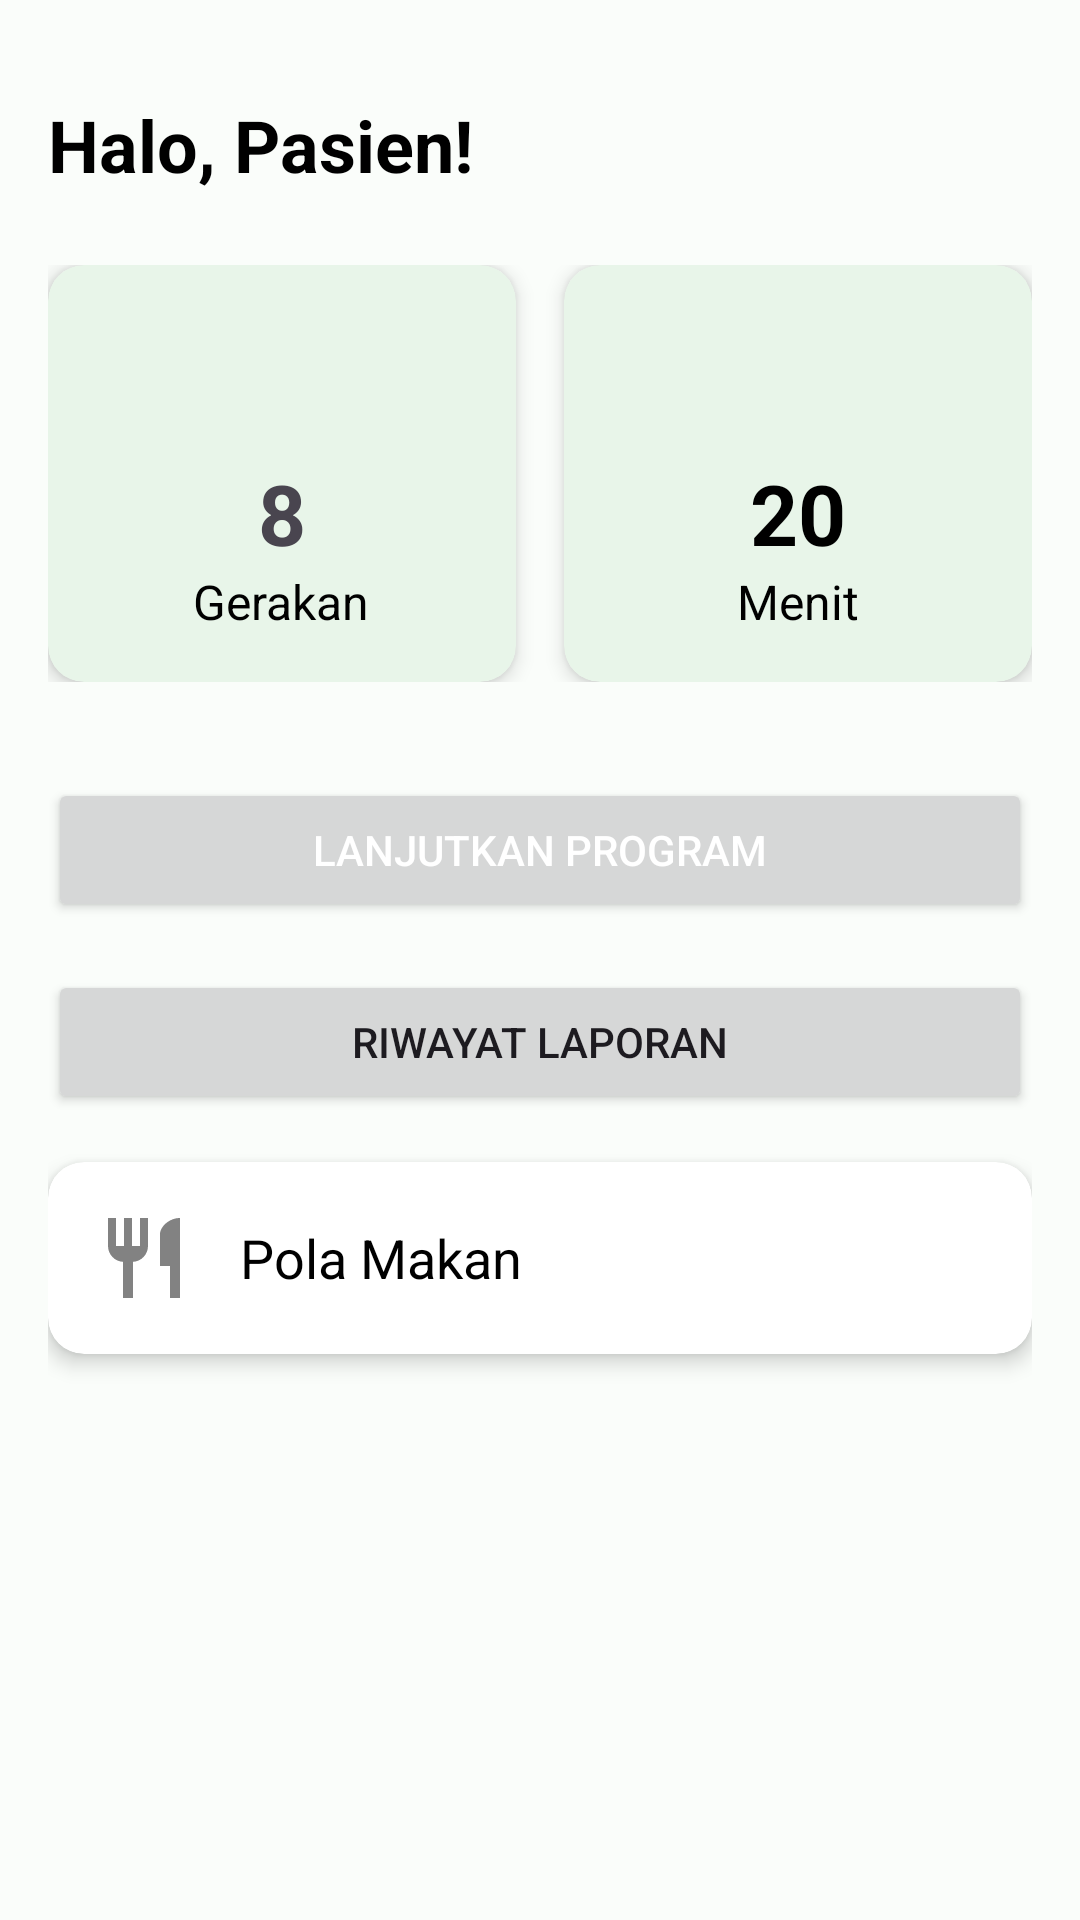

Named icons in this screenshot (1080×1920) and their bounding boxes, (x1, y1, x2, y2):
restaurant: (108, 1218, 180, 1298)
